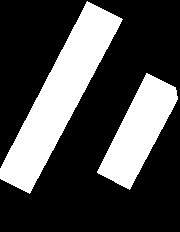parkingspot: (0, 1, 122, 193), (97, 73, 177, 189)
